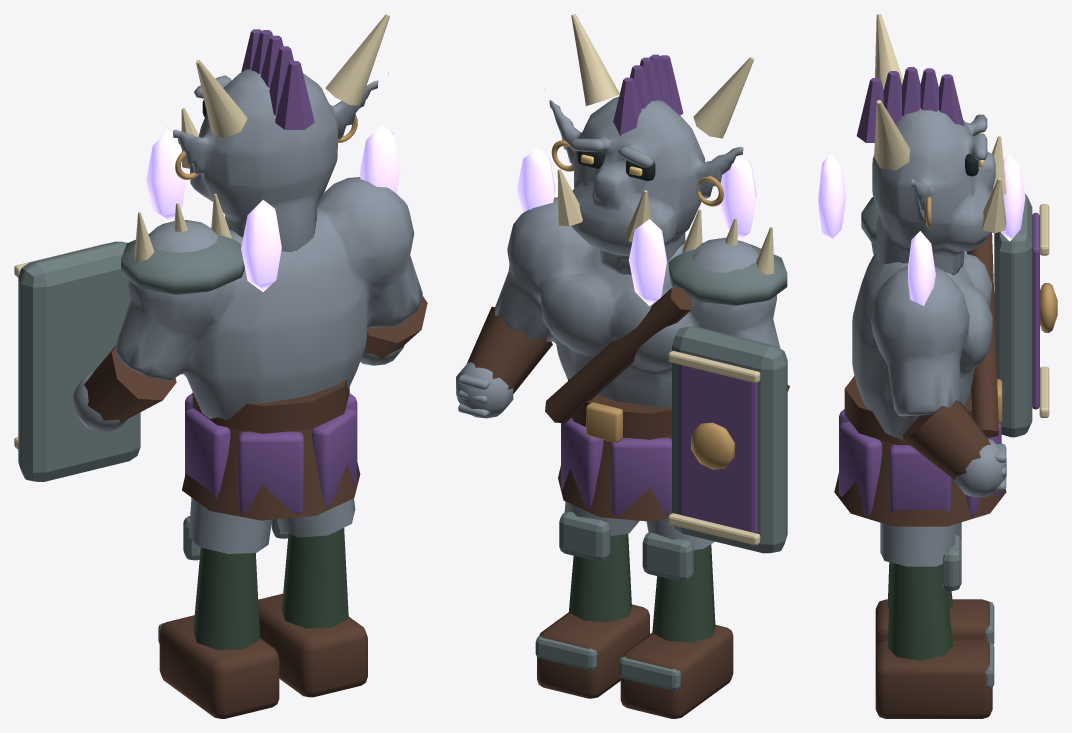
The model's file is host_41.glb.
The picture shows the model from 3 angles, left to right: view 1: azimuth 30°, elevation 25°; view 2: azimuth 150°, elevation 25°; view 3: azimuth 270°, elevation 25°; orthographic projection. The views are drawn at different scales.
Parts seen in each view (by area): view 1: mesh_Skin.002, mesh_Iron.002, mesh_Cloth.040, mesh_Leather.002, mesh_Leather.040, mesh_Leather.001, mesh_Bone.040, mesh_Shadow.040, mesh_Shadow.001, mesh_Skin.040, mesh_Soul.002, mesh_Soul.001 (+2 smaller); view 2: mesh_Skin.002, mesh_Cloth.040, mesh_Iron.002, mesh_Leather.002, mesh_Bone.040, mesh_Leather.040, mesh_Leather.001, mesh_Shadow.040, mesh_Shadow.001, mesh_Copper.040, mesh_Iron.040, mesh_Iron.001 (+6 smaller); view 3: mesh_Skin.002, mesh_Cloth.040, mesh_Leather.002, mesh_Iron.002, mesh_Leather.001, mesh_Shadow.001, mesh_Bone.040, mesh_Skin.001, mesh_Leather.040, mesh_Soul.002, mesh_Soul.040, mesh_Soul.001 (+2 smaller).
Boxes of the visible parts, box(x1,y1,x2,y2) form: mesh_Skin.002: box(73, 69, 422, 431); mesh_Iron.002: box(18, 227, 244, 481); mesh_Cloth.040: box(185, 29, 357, 513); mesh_Leather.002: box(84, 295, 427, 520); mesh_Leather.040: box(159, 615, 279, 718); mesh_Leather.001: box(258, 593, 367, 697); mesh_Bone.040: box(14, 14, 389, 449); mesh_Shadow.040: box(193, 547, 260, 650); mesh_Shadow.001: box(282, 528, 348, 628); mesh_Skin.040: box(188, 497, 271, 553); mesh_Soul.002: box(241, 200, 281, 291); mesh_Soul.001: box(146, 130, 186, 222); mesh_Skin.002: box(456, 89, 780, 418); mesh_Cloth.040: box(561, 54, 757, 533); mesh_Iron.002: box(668, 242, 787, 553); mesh_Leather.002: box(467, 288, 789, 521); mesh_Bone.040: box(557, 14, 774, 545); mesh_Leather.040: box(620, 624, 733, 718); mesh_Leather.001: box(537, 604, 649, 698); mesh_Shadow.040: box(652, 544, 715, 642); mesh_Shadow.001: box(568, 534, 631, 622); mesh_Copper.040: box(551, 140, 734, 469); mesh_Iron.040: box(619, 532, 693, 690); mesh_Iron.001: box(535, 511, 610, 670); mesh_Skin.002: box(852, 108, 1006, 497); mesh_Cloth.040: box(839, 67, 1039, 516); mesh_Leather.002: box(834, 232, 1006, 526); mesh_Iron.002: box(861, 194, 1032, 437); mesh_Leather.001: box(875, 640, 992, 718); mesh_Shadow.001: box(887, 562, 952, 660); mesh_Bone.040: box(874, 14, 1049, 417); mesh_Skin.001: box(880, 522, 956, 566); mesh_Leather.040: box(875, 599, 989, 648); mesh_Soul.002: box(818, 154, 846, 241); mesh_Soul.040: box(908, 231, 935, 305); mesh_Soul.001: box(1001, 154, 1025, 241).
Size of the model in its own units: 1.11 by 1.96 by 0.6737.
